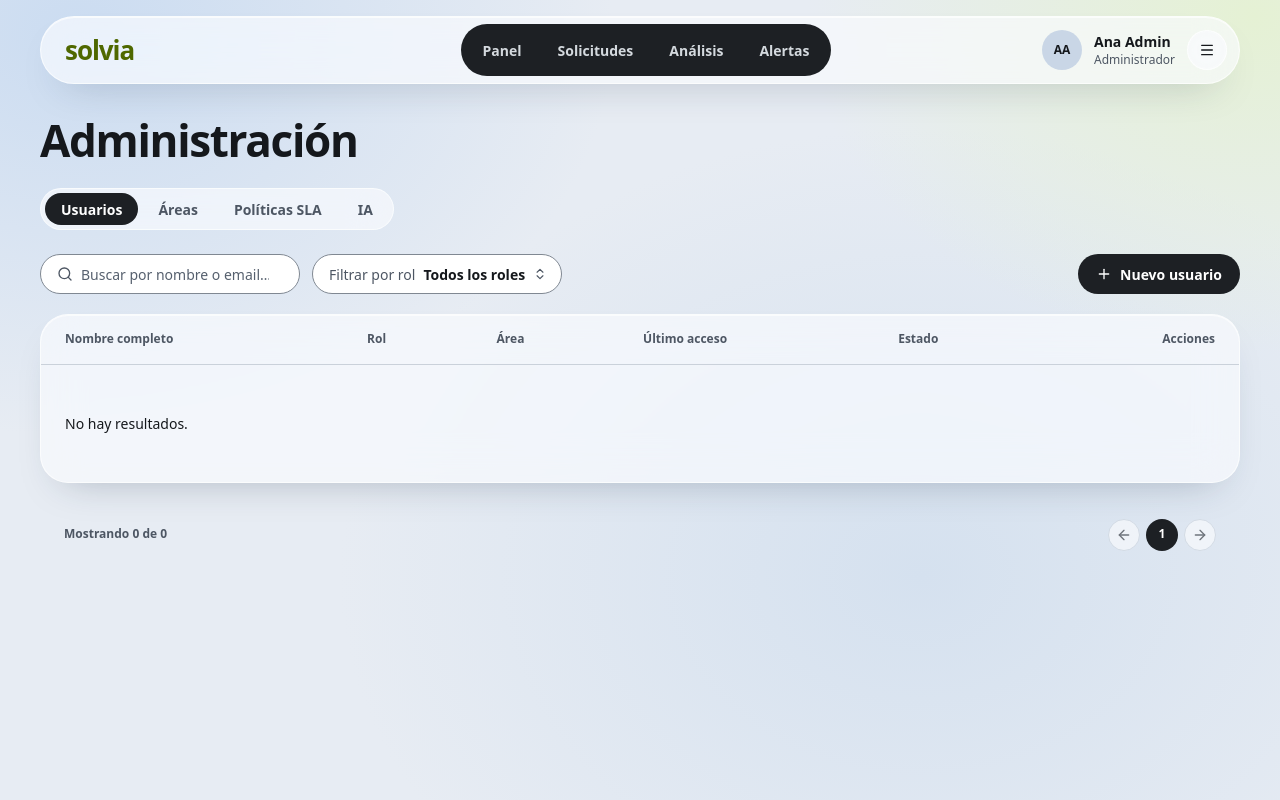
Test case: protección de rutas › permite al admin entrar a Administración
Check: the heading "Administración" is shown, box [40, 116, 358, 164]
Check: the button "Nuevo usuario" is shown, box [1078, 254, 1240, 294]
Click the button named "Menú de la cuenta": click(1207, 50) [1187, 30, 1227, 70]
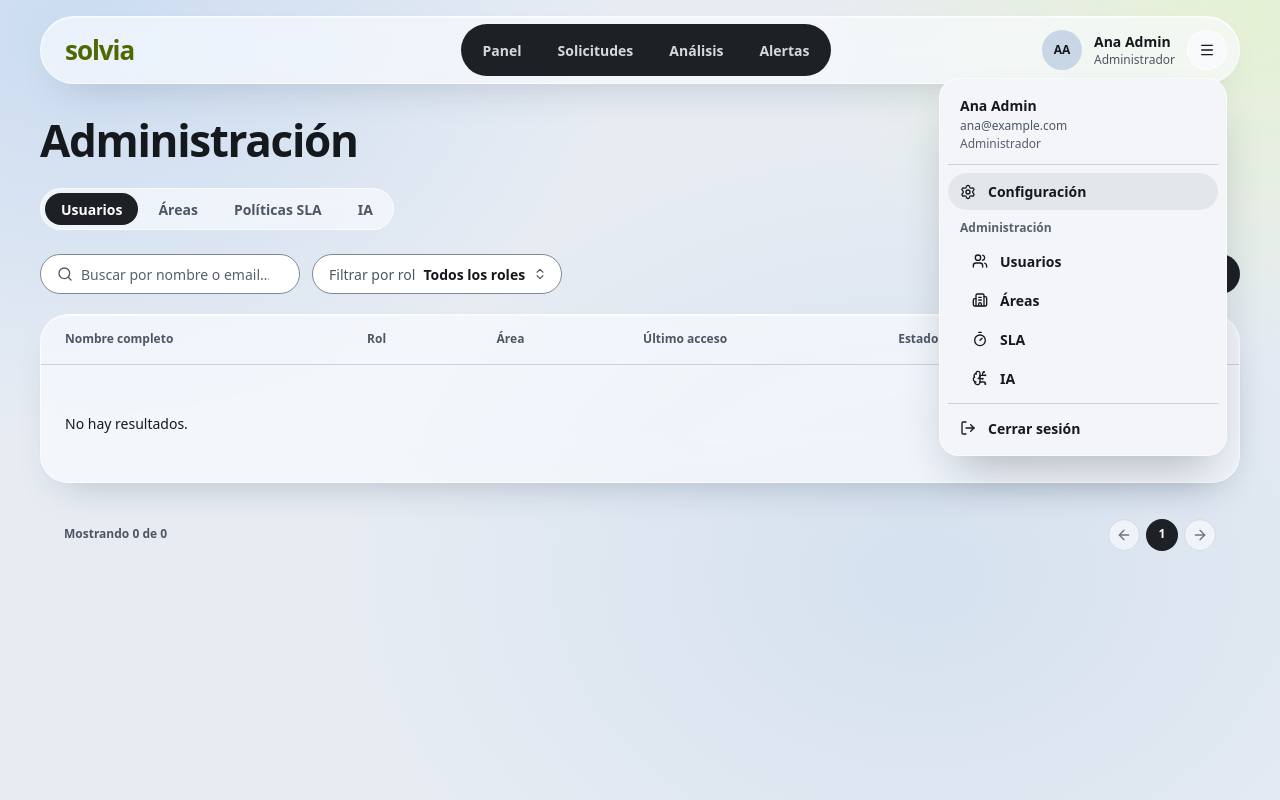
Check: the menu items read "Usuarios", "Áreas", "SLA", "IA", in this order, box [972, 252, 1062, 271]; [972, 291, 1039, 310]; [972, 330, 1025, 349]; [972, 369, 1015, 388]
